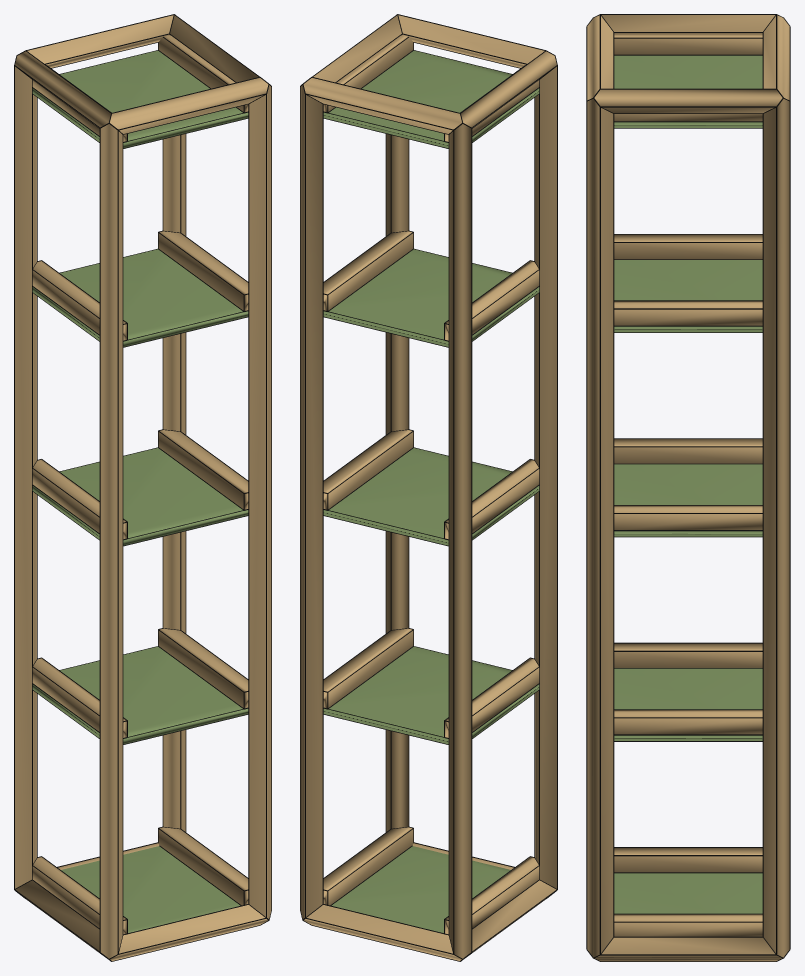
The model's file is 017-bibliotheque.glb.
3 renders of one model, left to right at view 1: azimuth 30°, elevation 25°; view 2: azimuth 150°, elevation 25°; view 3: azimuth 270°, elevation 25°, orthographic. The views are drawn at different scales.
Visible parts, largest first — view 1: arete-Z0, arete-Z1, arete-Z2, arete-Z3, tablette-plate-mod-1, tablette-plate-mod-3, tablette-plate-mod-2, tablette-plate-mod-4, tablette-plate-mod-0, arete-wire-Z0, arete-X2, arete-X0 (+19 smaller); view 2: arete-Z2, arete-Z3, arete-Z0, arete-Z1, tablette-plate-mod-1, tablette-plate-mod-3, tablette-plate-mod-2, tablette-plate-mod-4, tablette-plate-mod-0, arete-wire-Z2, arete-X3, arete-X1 (+19 smaller); view 3: arete-Z1, arete-Z3, tablette-plate-mod-1, tablette-plate-mod-3, tablette-plate-mod-2, tablette-plate-mod-0, tablette-plate-mod-4, arete-wire-Z1, arete-wire-Z3, arete-Y3, arete-Y1, tablette-traverse-right-mod-1 (+23 smaller).
Part boxes in pixels (box(x1,y1,x2,y2)): arete-Z0: box(100, 124, 122, 958); arete-Z1: box(249, 85, 271, 918); arete-Z2: box(15, 66, 36, 888); arete-Z3: box(163, 134, 185, 831); tablette-plate-mod-1: box(32, 646, 248, 744); tablette-plate-mod-3: box(32, 249, 248, 346); tablette-plate-mod-2: box(32, 448, 248, 545); tablette-plate-mod-4: box(32, 50, 248, 148); tablette-plate-mod-0: box(61, 846, 240, 932); arete-wire-Z0: box(99, 123, 123, 954); arete-X2: box(110, 78, 268, 133); arete-X0: box(110, 905, 267, 960); arete-Z2: box(449, 124, 471, 958); arete-Z3: box(300, 85, 322, 918); arete-Z0: box(535, 66, 556, 888); arete-Z1: box(386, 134, 408, 831); tablette-plate-mod-1: box(323, 646, 539, 744); tablette-plate-mod-3: box(323, 249, 539, 346); tablette-plate-mod-2: box(323, 448, 539, 545); tablette-plate-mod-4: box(323, 50, 539, 148); tablette-plate-mod-0: box(331, 846, 510, 932); arete-wire-Z2: box(448, 123, 472, 954); arete-X3: box(303, 78, 461, 133); arete-X1: box(304, 905, 461, 960); arete-Z1: box(587, 99, 613, 957); arete-Z3: box(763, 99, 789, 957); tablette-plate-mod-1: box(614, 668, 762, 740); tablette-plate-mod-3: box(614, 260, 762, 332); tablette-plate-mod-2: box(614, 464, 762, 536); tablette-plate-mod-0: box(614, 873, 762, 913); tablette-plate-mod-4: box(614, 55, 762, 127); arete-wire-Z1: box(586, 98, 614, 954); arete-wire-Z3: box(762, 101, 790, 954); arete-Y3: box(594, 89, 782, 113); arete-Y1: box(595, 937, 781, 961); tablette-traverse-right-mod-1: box(614, 710, 762, 734).
Bounding box in the file's own units: 0.4309 × 2.03 × 0.4309.
